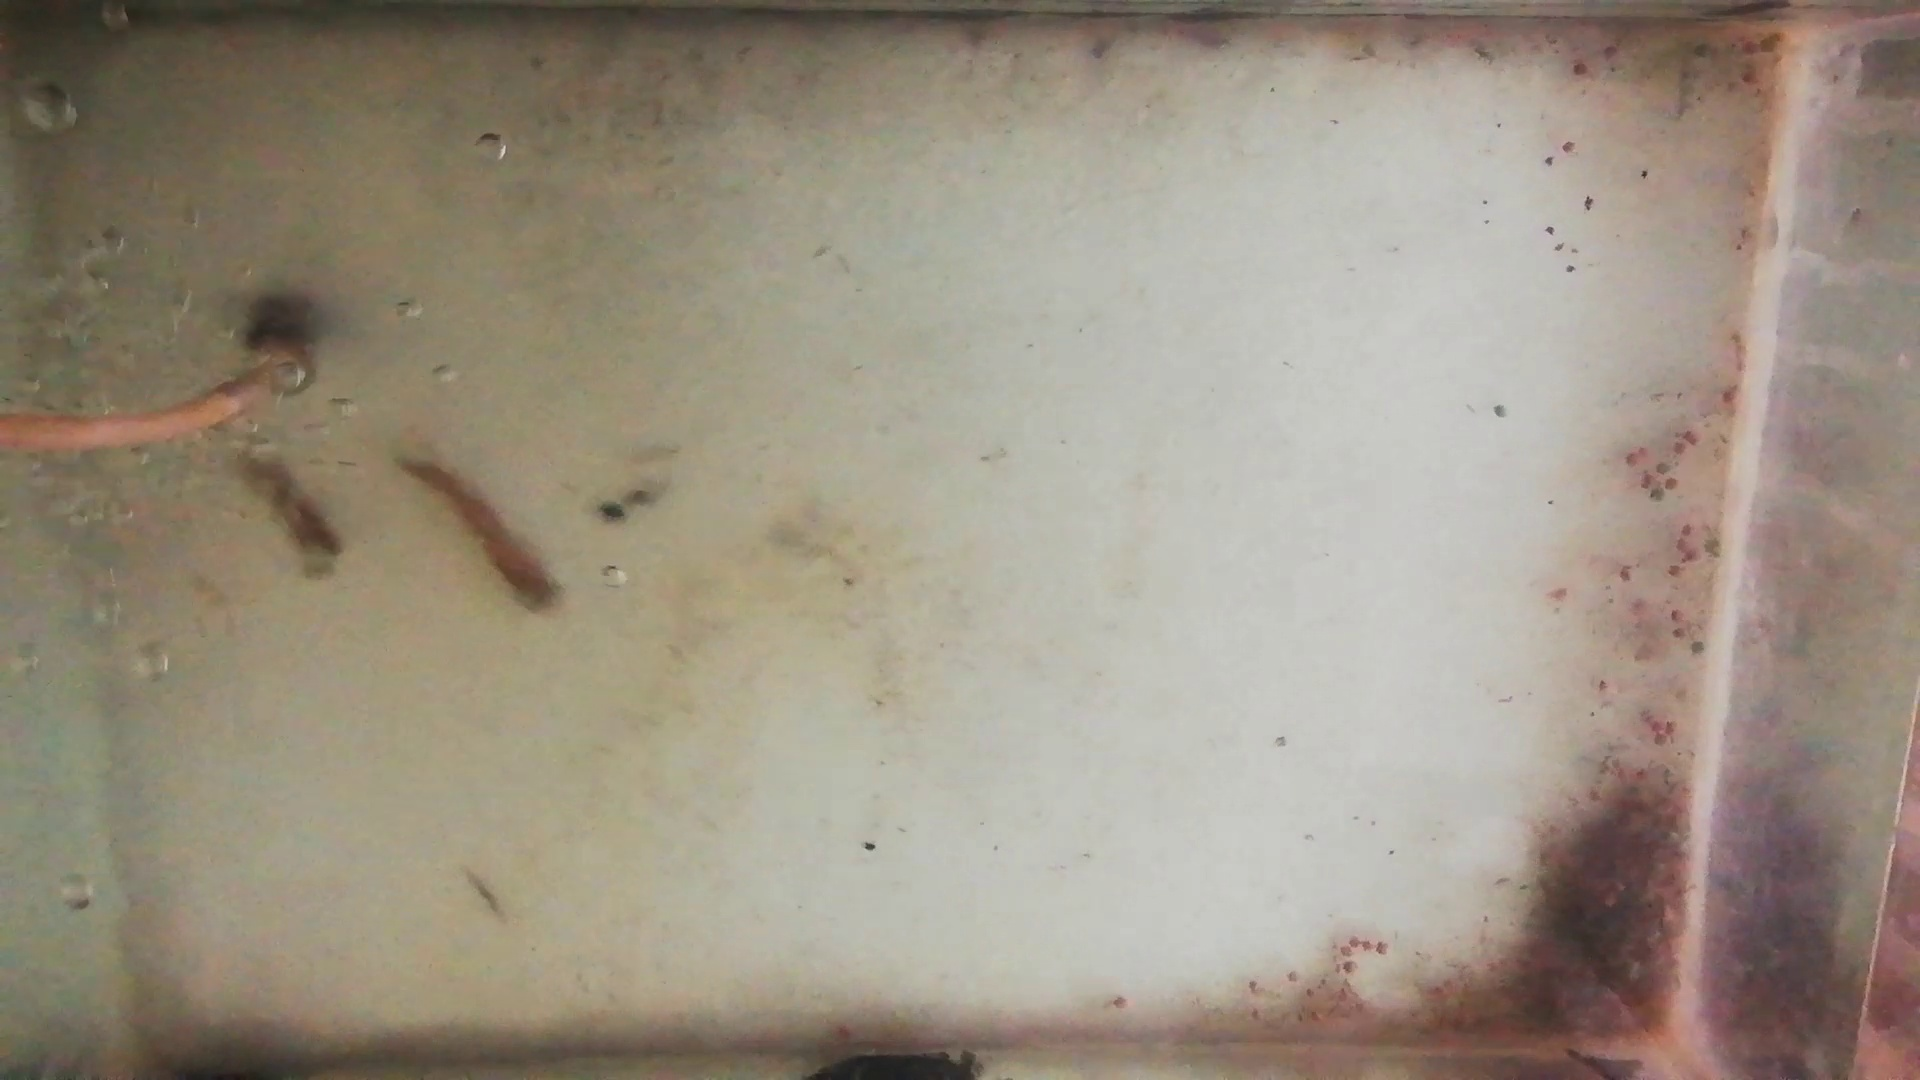fish: (398, 459, 566, 618), (210, 433, 345, 580)
